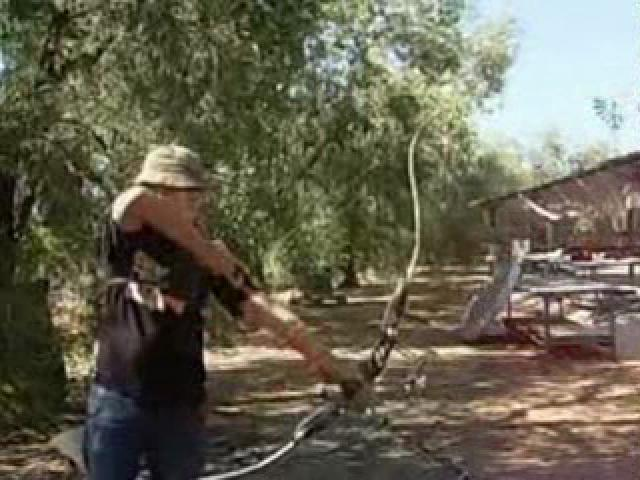I: (60, 123, 383, 480)
